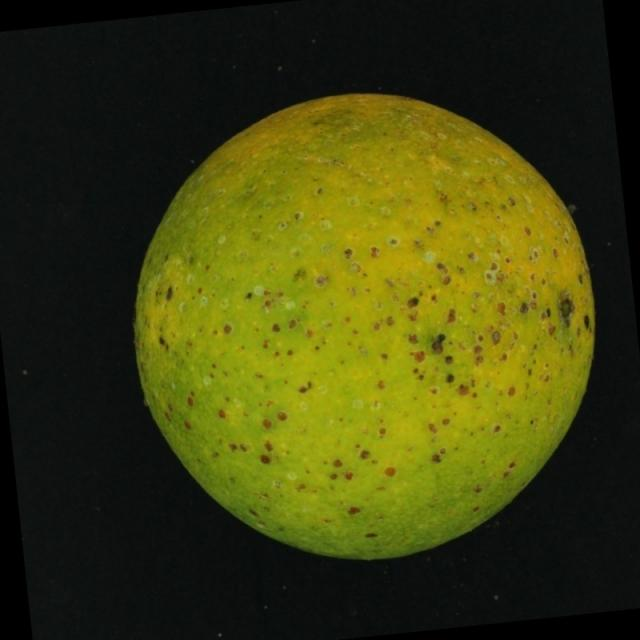grenning: (126, 76, 617, 585)
